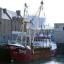fishing boat: (5, 2, 59, 63)
